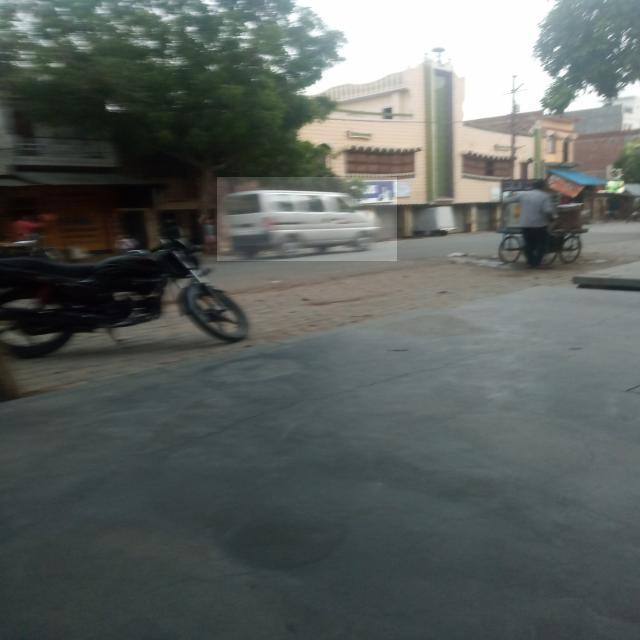Travller: (217, 177, 397, 261)
